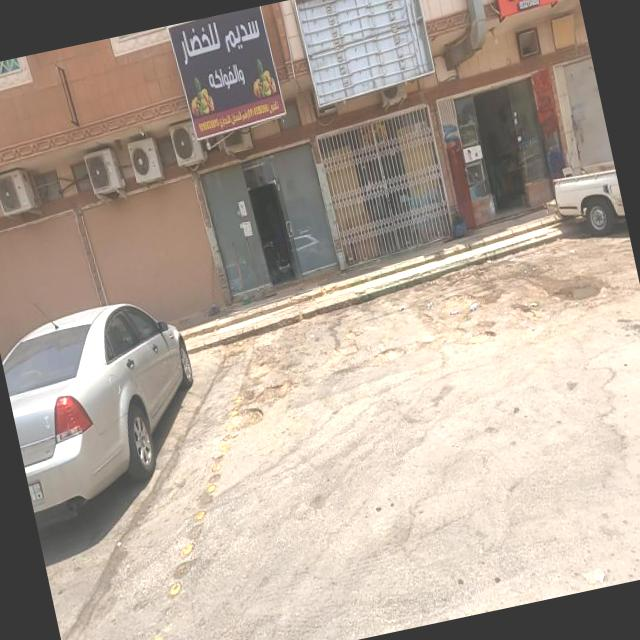debris: (215, 0, 526, 189), (404, 268, 459, 342), (444, 274, 500, 339), (428, 282, 484, 344), (379, 290, 418, 329)
